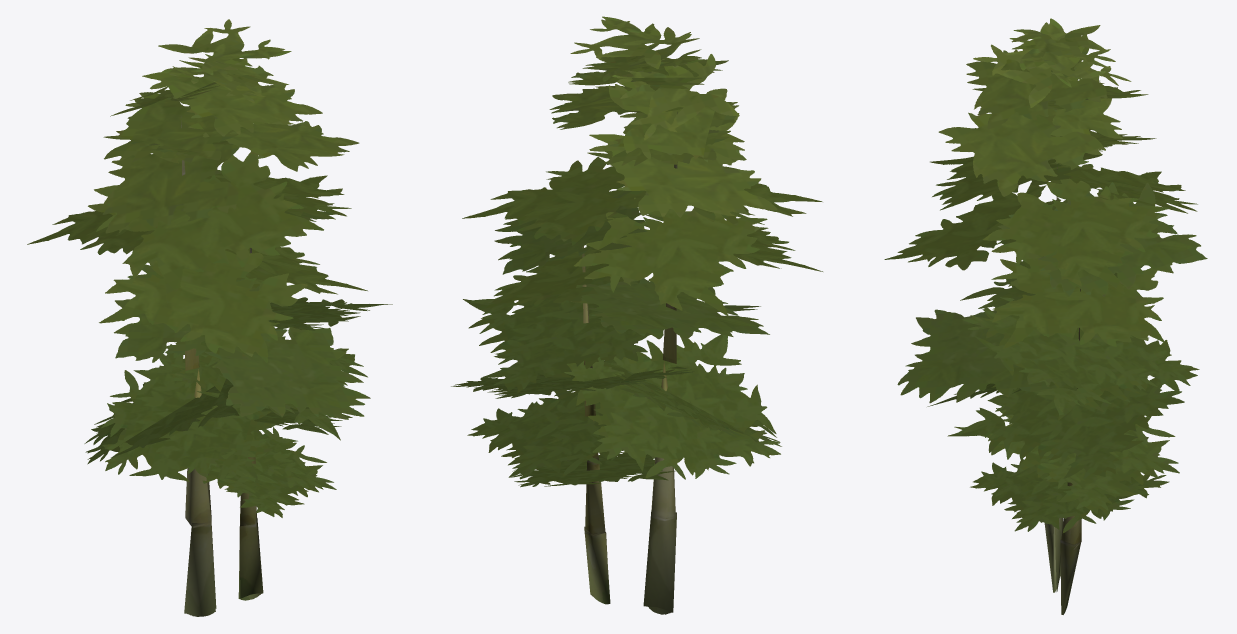
Rendered from tree_bamboo_01.glb.
3 renders of one model, left to right at view 1: azimuth 30°, elevation 25°; view 2: azimuth 150°, elevation 25°; view 3: azimuth 270°, elevation 25°, orthographic. The views are drawn at different scales.
Visible parts, largest first — view 1: tree_bamboo_01; view 2: tree_bamboo_01; view 3: tree_bamboo_01.
Part boxes in pixels (left/top/right/bottom): tree_bamboo_01: left=27, top=19, right=392, bottom=616; tree_bamboo_01: left=451, top=16, right=822, bottom=614; tree_bamboo_01: left=884, top=18, right=1207, bottom=614.
Size of the model in its own units: 4.46 by 6.87 by 3.99.
1 material, 1 textured.
